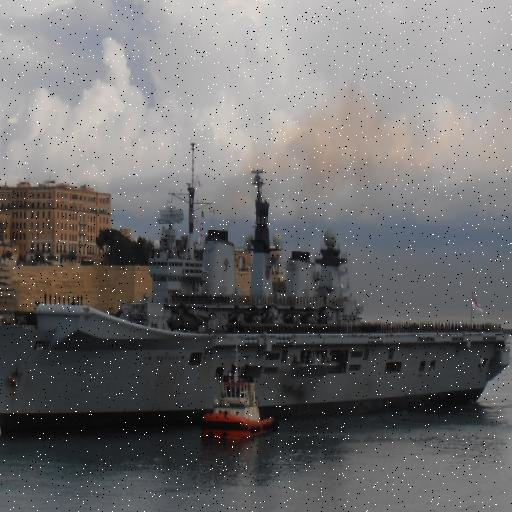Portanaves: (1, 140, 512, 446)
